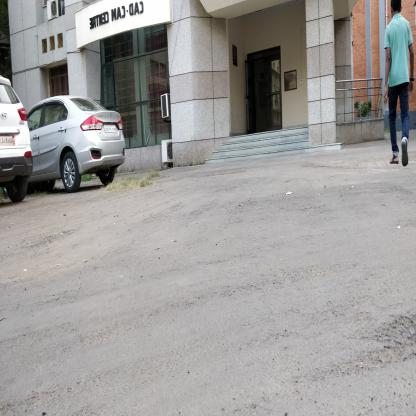stairs: (232, 132, 306, 163)
